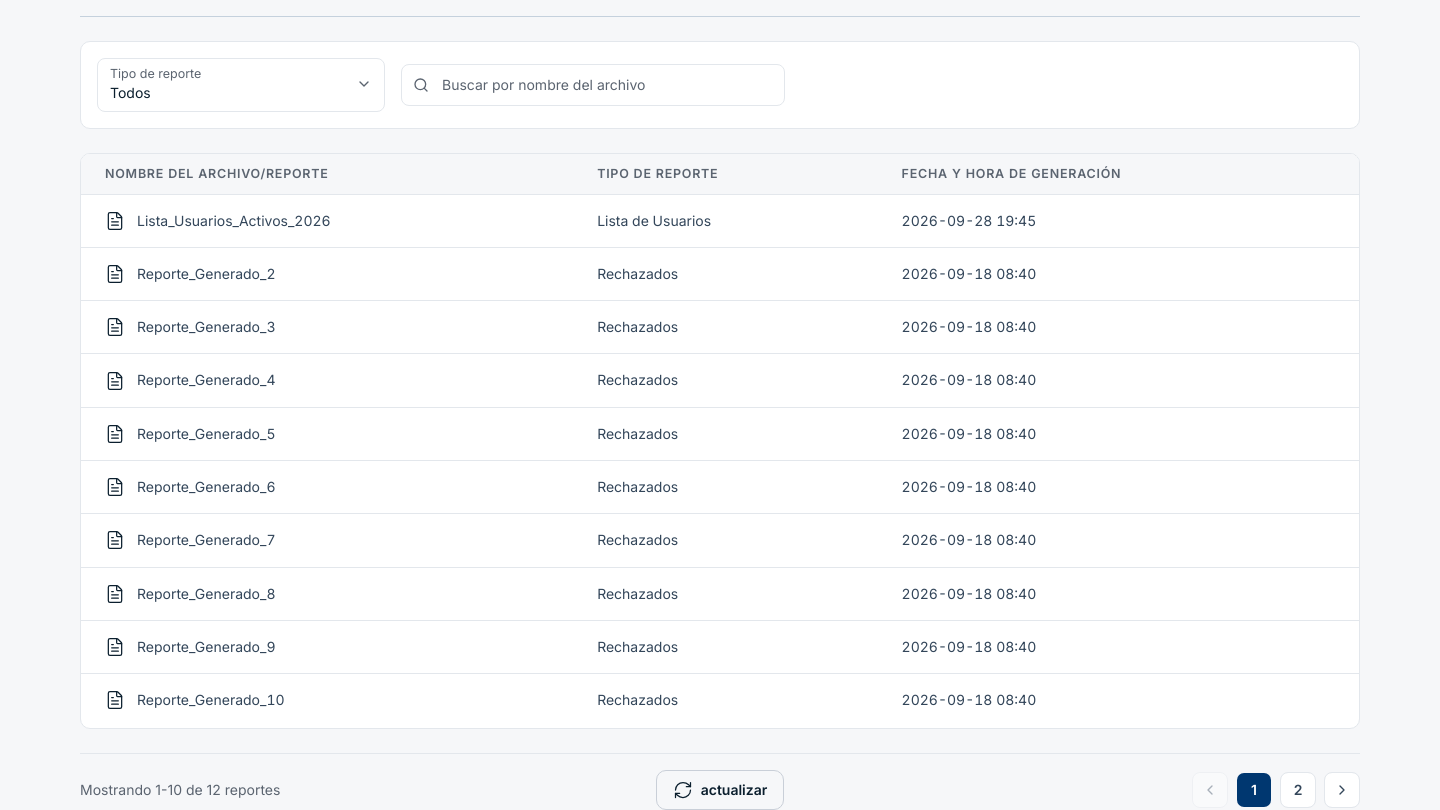
ReportHistoryView › cambia de página con la paginación
(page scrolled)
Expected: the text "Lista_Usuarios_Activos_2026" is shown, [137,210,331,231]
Expected: the button named "Página anterior" is disabled, [1192,772,1228,808]
Click the button named "Página siguiente": (1342, 790) [1324,772,1360,808]
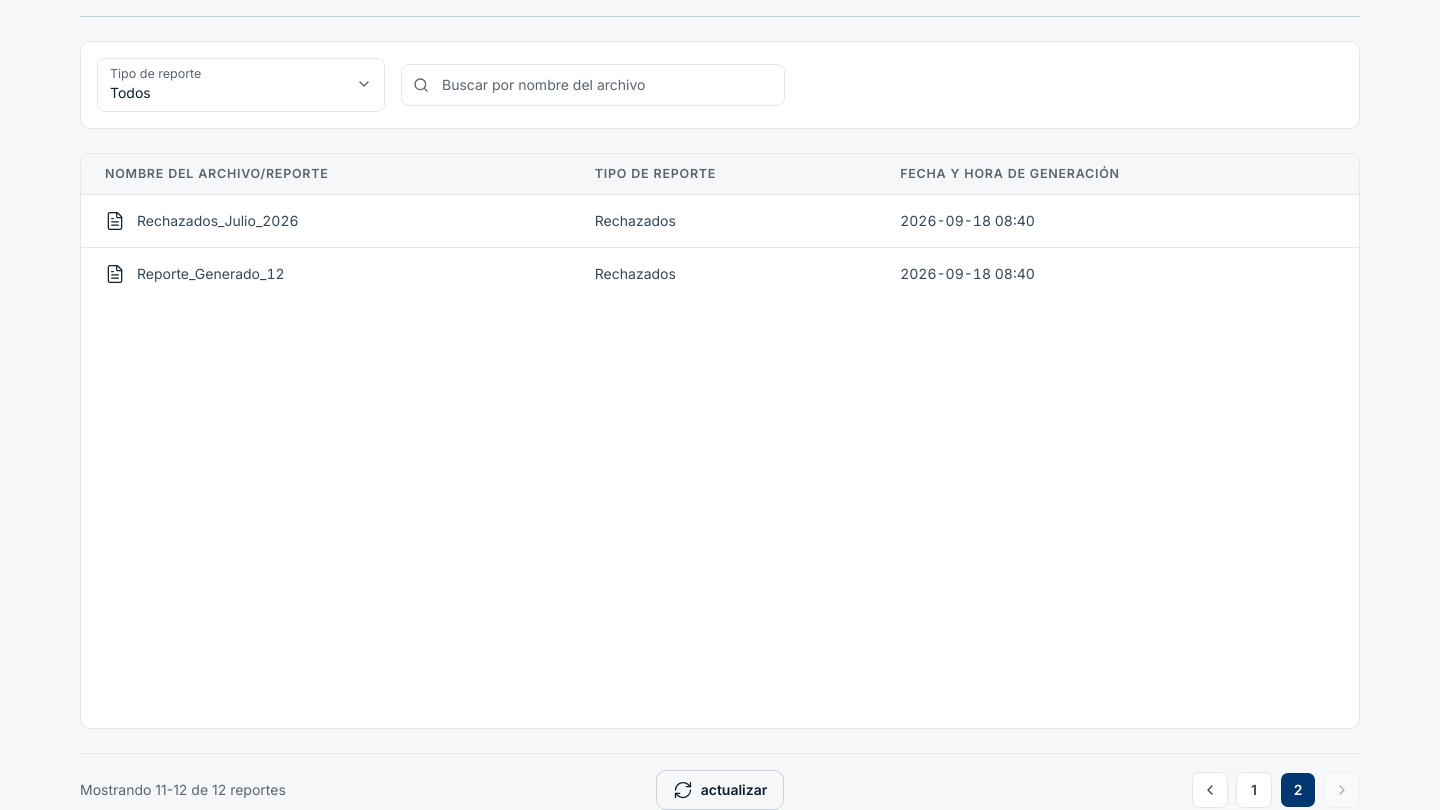
Expected: the text "Rechazados_Julio_2026" is shown, [137,210,299,231]
Expected: the text "Lista_Usuarios_Activos_2026" is gone
Click the button named "Página anterior": (1210, 790) [1192,772,1228,808]
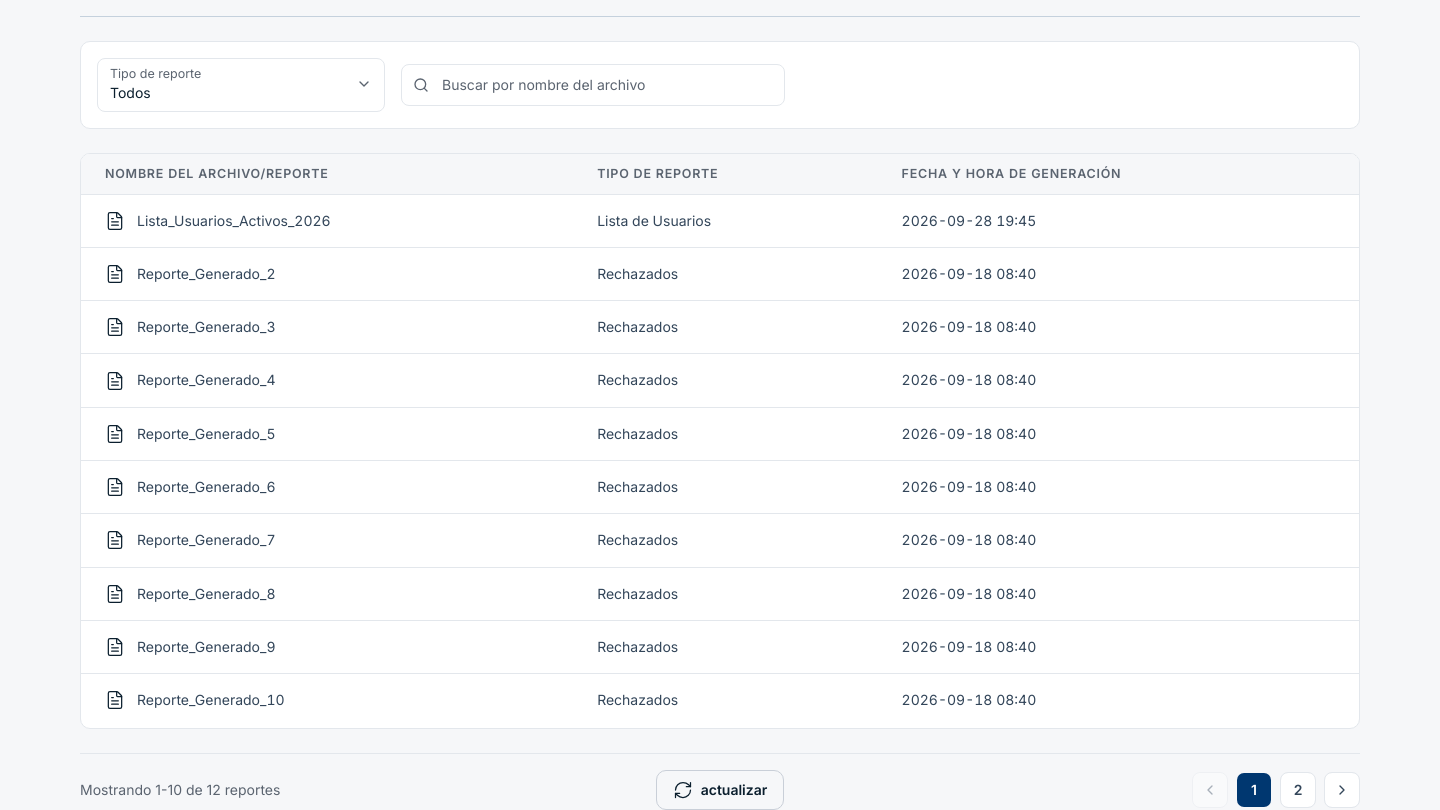
Expected: the text "Lista_Usuarios_Activos_2026" is shown, [137,210,331,231]
